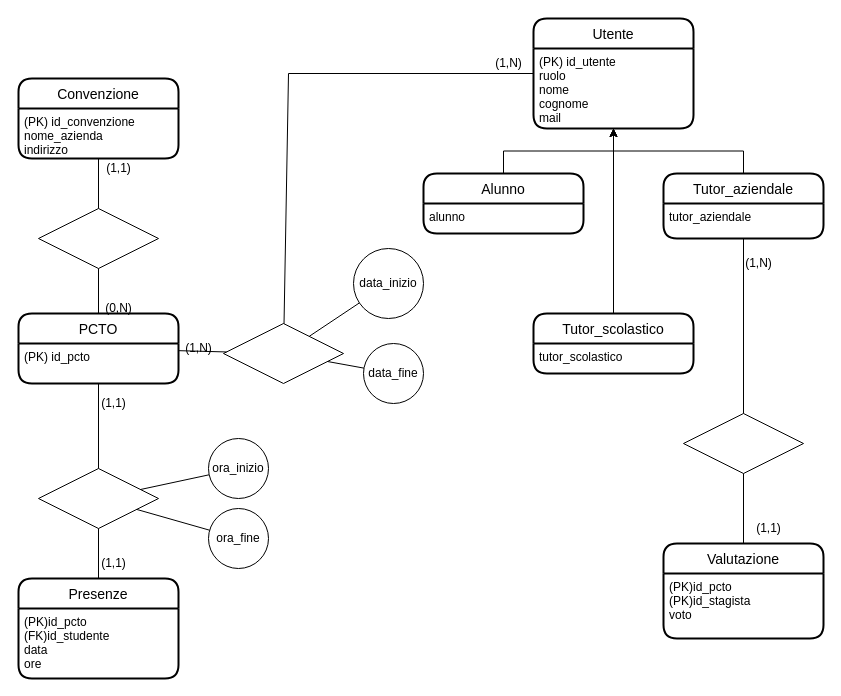
Image size: 841x696. Some labels were removed from this diagram. The shapes that lost their labels are listed below. From the top down, each one's centre as x and y in pixels, then its label:
[98,238]: offre
[283,353]: svolge/gestisce
[743,443]: produce
[98,498]: conta
